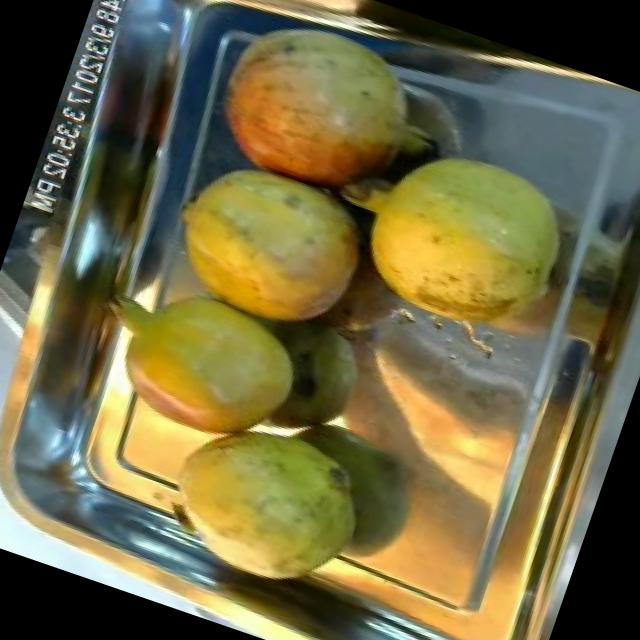fruit: (327, 120, 596, 372), (190, 0, 468, 232), (134, 391, 392, 616), (140, 137, 388, 356), (88, 260, 329, 472)
